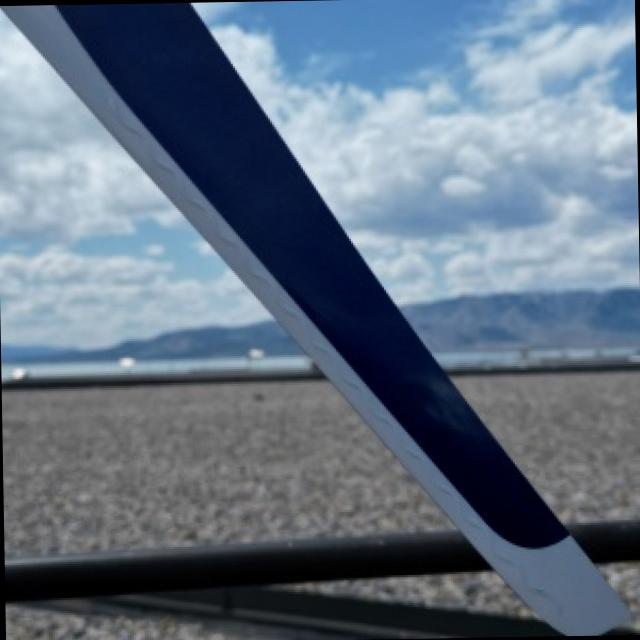healthy: (212, 0, 637, 293)
